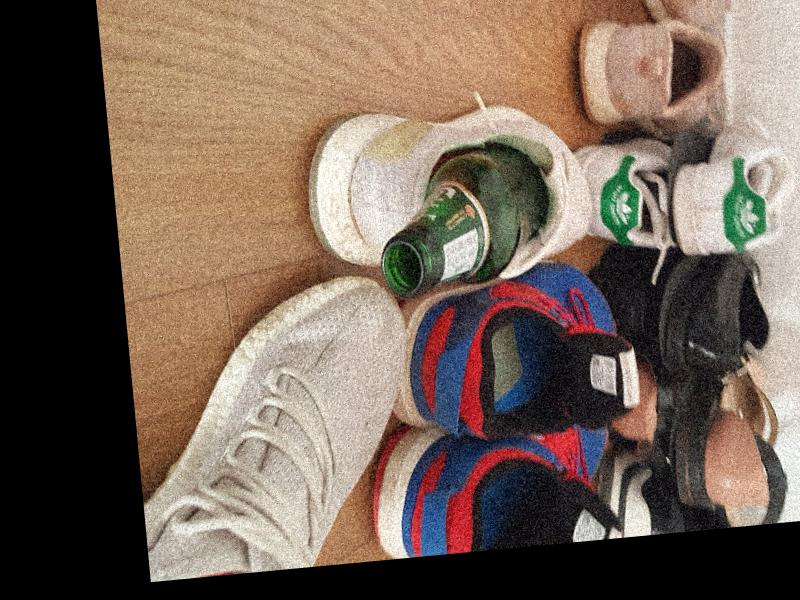Beer: (372, 143, 553, 297)
